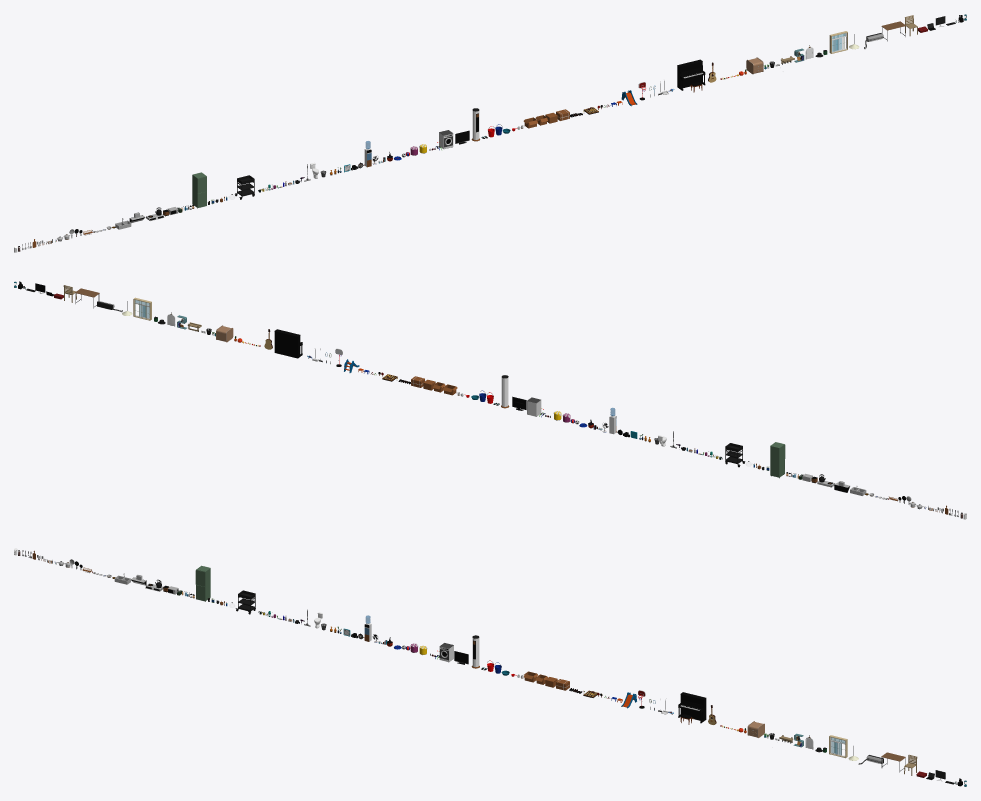
File: LowPolyProps.fbx
The picture shows the model from 3 angles, top to bottom: view 1: azimuth 30°, elevation 25°; view 2: azimuth 150°, elevation 25°; view 3: azimuth 330°, elevation 25°; orthographic projection.
Parts seen in each view (by area): view 1: props_148; view 2: props_148; view 3: props_148.
Boxes of the visible parts, bbox=[...] form: props_148: bbox=[677, 59, 705, 90]; props_148: bbox=[274, 329, 302, 358]; props_148: bbox=[678, 692, 706, 723].
Size of the model in its own units: 60.01 by 1.98 by 1.24.
